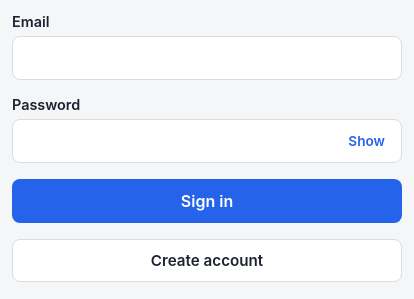
it: SignInForm › disables submission while the request is pending
In the field labelled "Email": (207, 58) [12,36,402,80], type "ana@example.com"
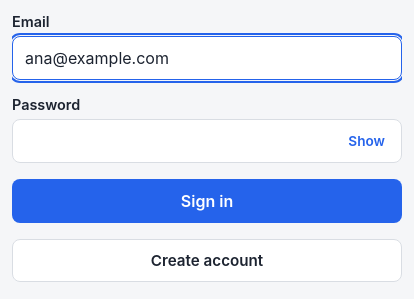
In the password field labelled "Password": (207, 141) [12,119,402,163], type "correct-horse-battery-staple"
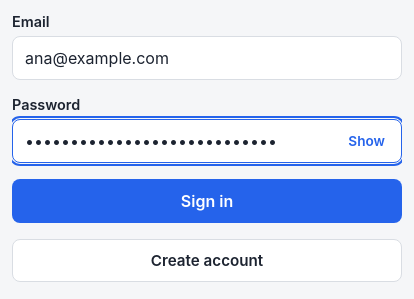
Click the button "Sign in": (207, 201) [12,179,402,223]
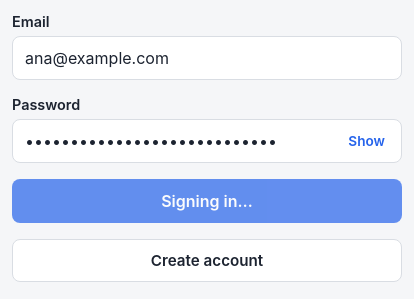
Check: the button "Signing in…" is disabled, box [12,179,402,223]
